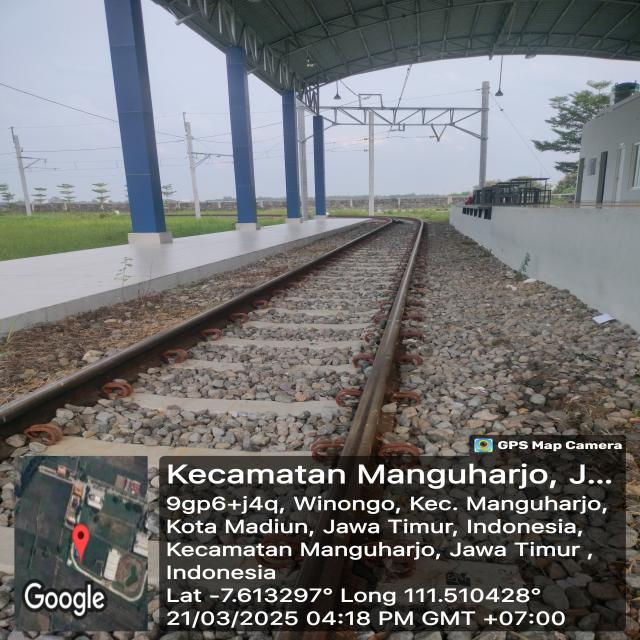rail-detection: (0, 216, 425, 455)
